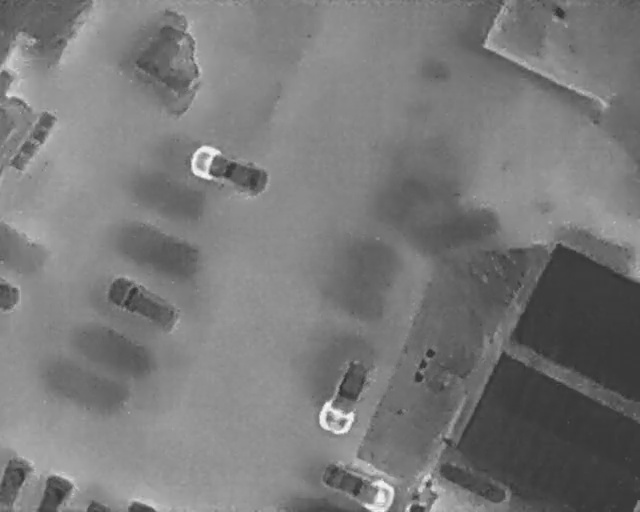Car: (314, 351, 377, 439), (102, 271, 187, 334), (184, 139, 273, 198), (321, 459, 397, 512), (0, 456, 34, 511), (34, 473, 74, 512), (0, 276, 20, 314)
